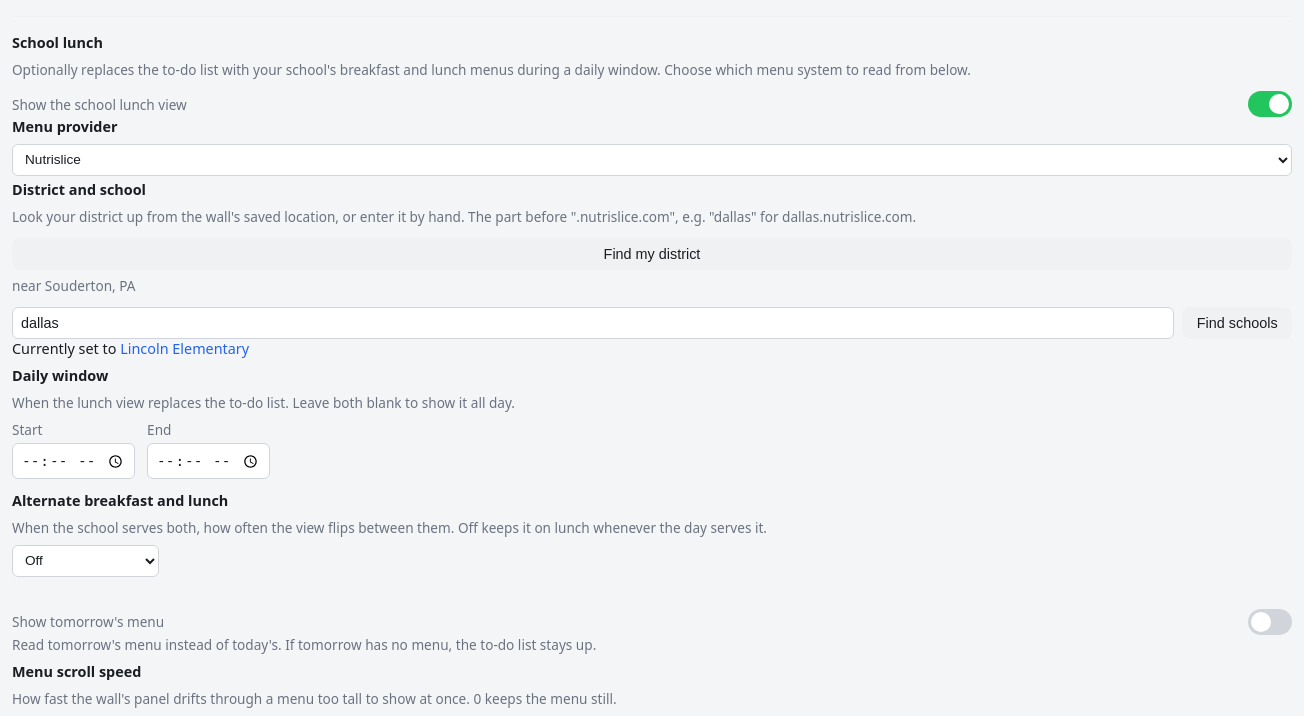
Scenario: SchoolLunchSettings › finding a district from the location › surfaces a discovery failure under the controls
The width and height of the screenshot is (1304, 716).
Click the button "Find my district": click(652, 254) [12,238,1292,270]
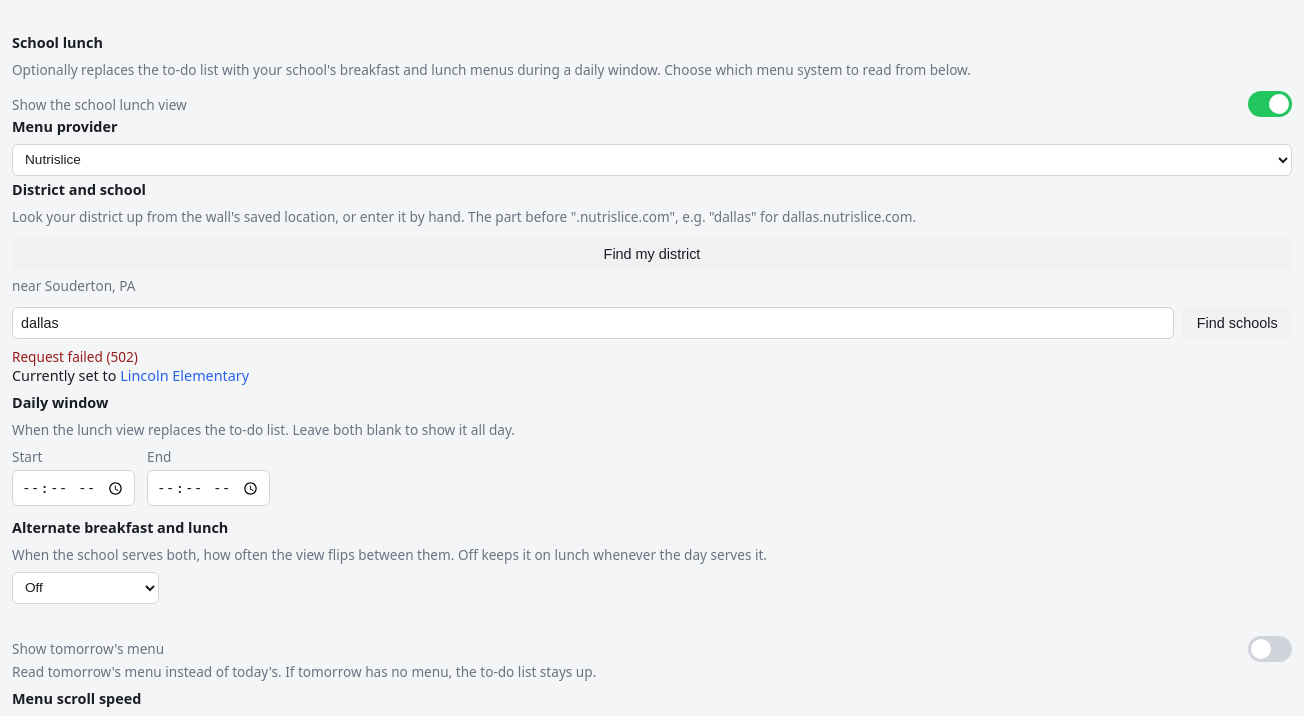
Expected: the text "Request failed (502)" is shown, [12,347,138,366]
